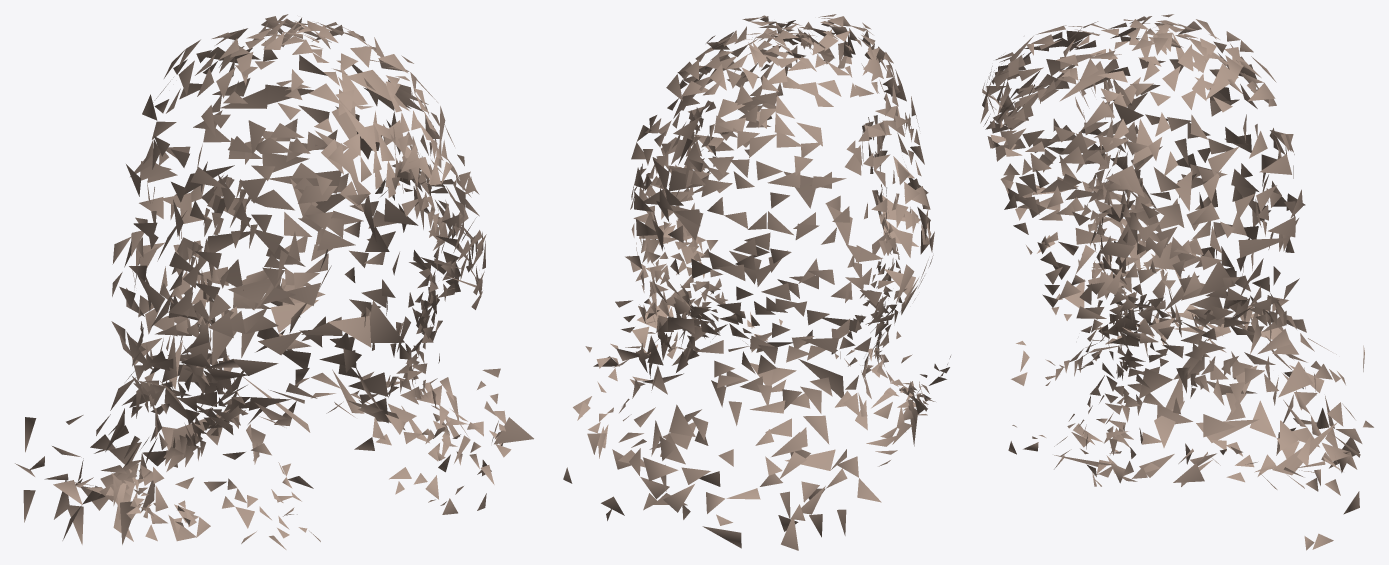
Rendered from female_hair_02_lod2.glb.
3 renders of one model, left to right at view 1: azimuth 30°, elevation 25°; view 2: azimuth 150°, elevation 25°; view 3: azimuth 270°, elevation 25°, orthographic. The views are drawn at different scales.
Visible parts, largest first — view 1: female-hair-02; view 2: female-hair-02; view 3: female-hair-02.
Boxes of the visible parts, x1,y1,x2,y2 form: female-hair-02: (15, 14, 533, 549); female-hair-02: (563, 14, 950, 550); female-hair-02: (980, 14, 1373, 550).
Bounding box in the file's own units: 0.3003 × 0.3861 × 0.2898.
